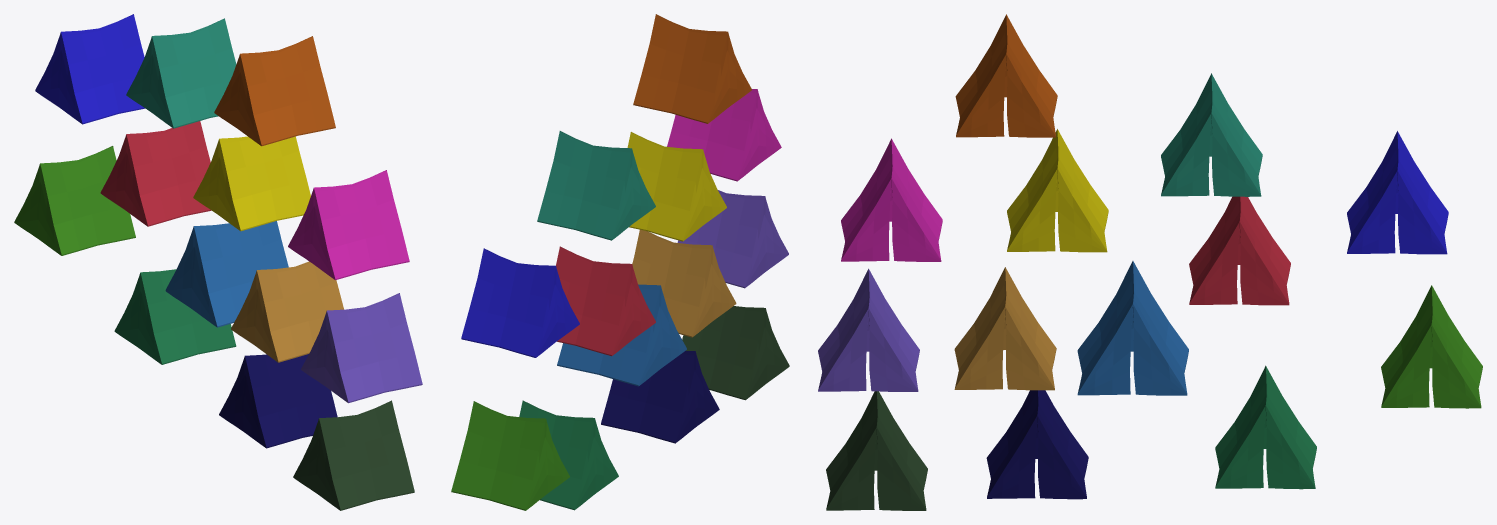
The model's file is палатка1.fbx.
3 views of the same model, side by side, from view 1: azimuth 30°, elevation 25°; view 2: azimuth 150°, elevation 25°; view 3: azimuth 270°, elevation 25° (orthographic). The views are drawn at different scales.
Parts seen in each view (by area): view 1: Cube, Cube.009, Cube.012, Cube.006, Cube.007, Cube.008, Cube.003, Cube.010, Cube.011, Cube.002, Cube.005, Cube.001 (+1 smaller); view 2: Cube.012, Cube.010, Cube.007, Cube.011, Cube.003, Cube.008, Cube.005, Cube.001, Cube.006, Cube, Cube.009, Cube.002 (+1 smaller); view 3: Cube.002, Cube.004, Cube, Cube.007, Cube.012, Cube.006, Cube.010, Cube.008, Cube.009, Cube.001, Cube.011, Cube.003 (+1 smaller).
Part boxes in pixels (x1,y1,x2,y2): Cube: (301, 293, 422, 403); Cube.009: (288, 170, 409, 280); Cube.012: (214, 36, 335, 146); Cube.006: (293, 400, 414, 510); Cube.007: (14, 146, 135, 255); Cube.008: (193, 136, 310, 231); Cube.003: (100, 121, 211, 226); Cube.010: (35, 14, 145, 124); Cube.011: (126, 18, 236, 128); Cube.002: (165, 221, 288, 327); Cube.005: (219, 354, 337, 448); Cube.001: (231, 261, 343, 362); Cube.012: (633, 14, 751, 123); Cube.010: (461, 248, 579, 357); Cube.007: (451, 401, 569, 510); Cube.011: (537, 131, 655, 240); Cube.003: (556, 246, 655, 356); Cube.008: (627, 132, 726, 241); Cube.005: (601, 350, 719, 443); Cube.001: (632, 229, 736, 337); Cube.006: (682, 306, 789, 400); Cube: (677, 190, 788, 288); Cube.009: (667, 89, 781, 181); Cube.002: (557, 284, 686, 386); Cube.002: (1077, 261, 1188, 395); Cube.004: (1215, 365, 1316, 489); Cube: (818, 268, 919, 391); Cube.007: (1381, 285, 1482, 408); Cube.012: (955, 14, 1057, 137); Cube.006: (826, 391, 927, 510); Cube.010: (1347, 131, 1448, 254); Cube.008: (1007, 129, 1108, 252); Cube.009: (841, 138, 942, 261); Cube.001: (954, 267, 1056, 390); Cube.011: (1161, 73, 1262, 196); Cube.003: (1189, 196, 1290, 305).
Bounding box in the file's own units: 299 × 1055 × 1425.
